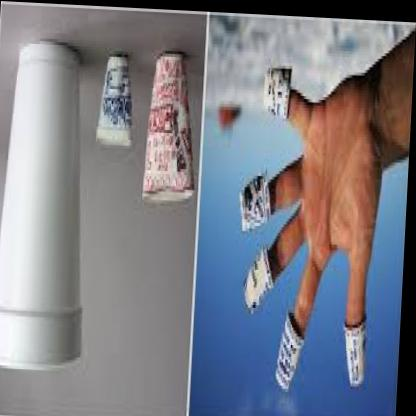Plastic: (0, 15, 201, 415)
